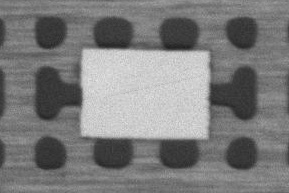DIE_CRACK: (156, 50, 289, 65)
